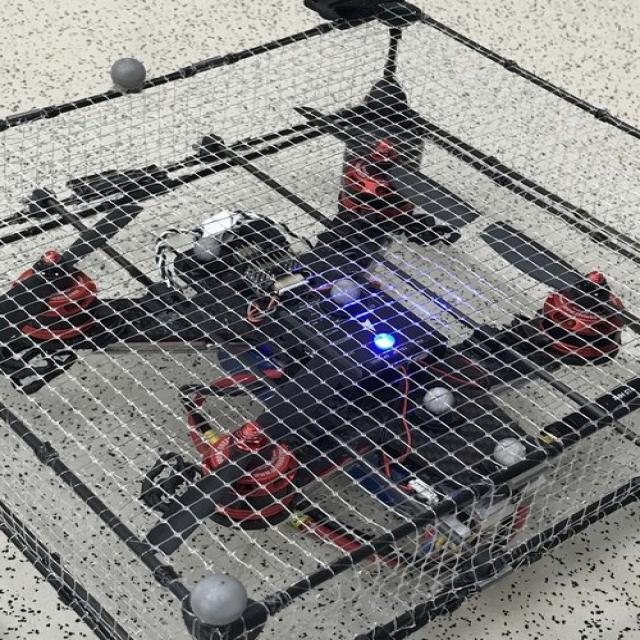drone: (0, 122, 640, 612)
